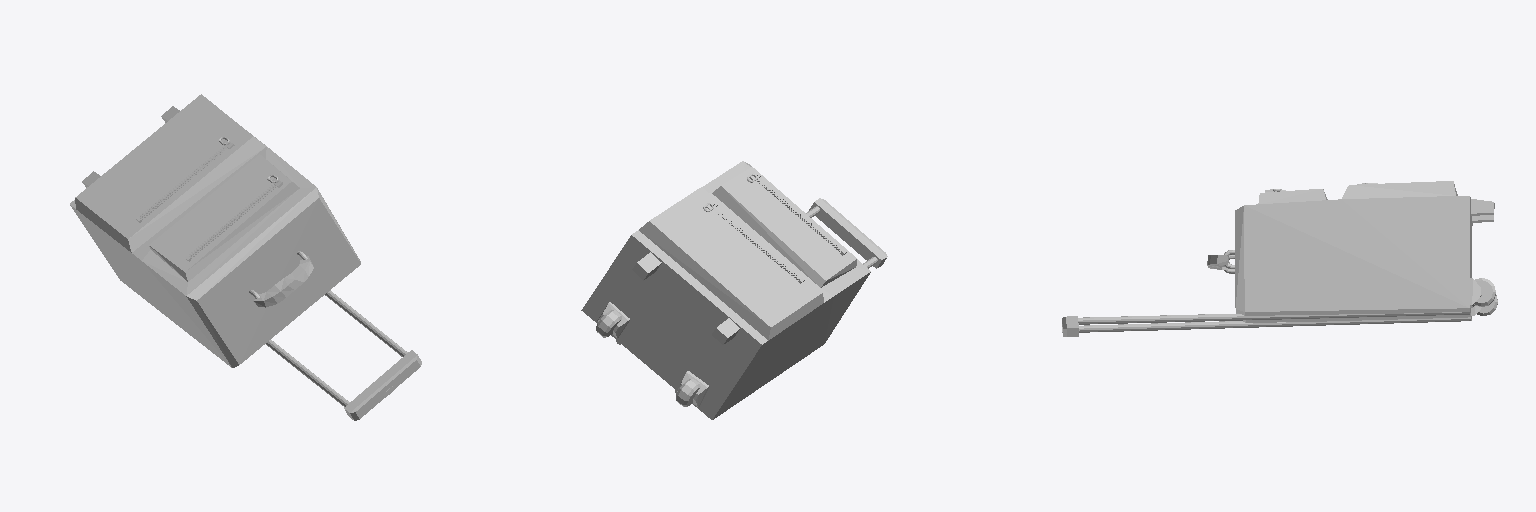
3 renders of one model, left to right at view 1: azimuth 30°, elevation 25°; view 2: azimuth 150°, elevation 25°; view 3: azimuth 270°, elevation 25°, orthographic.
Visible parts, largest first — view 1: suitcase_model; view 2: suitcase_model; view 3: suitcase_model.
Boxes of the visible parts, box(x1,y1,x2,y2) form: suitcase_model: box(70, 94, 421, 420); suitcase_model: box(581, 161, 887, 419); suitcase_model: box(1062, 181, 1497, 336).
Bounding box in the file's own units: 1.07 × 1.01 × 2.21.